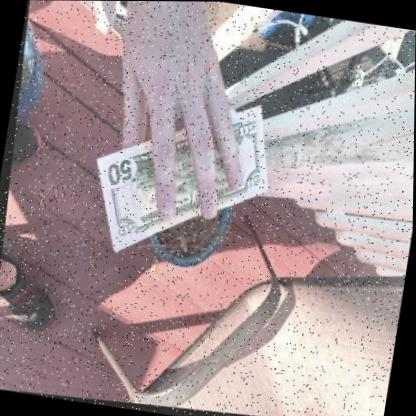fifty-back: (93, 105, 265, 252)
